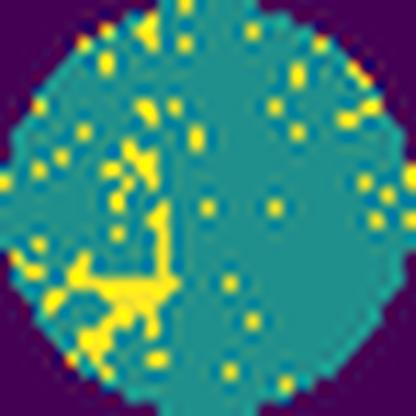Edge-Loc: (38, 196, 184, 377), (122, 134, 160, 188)
